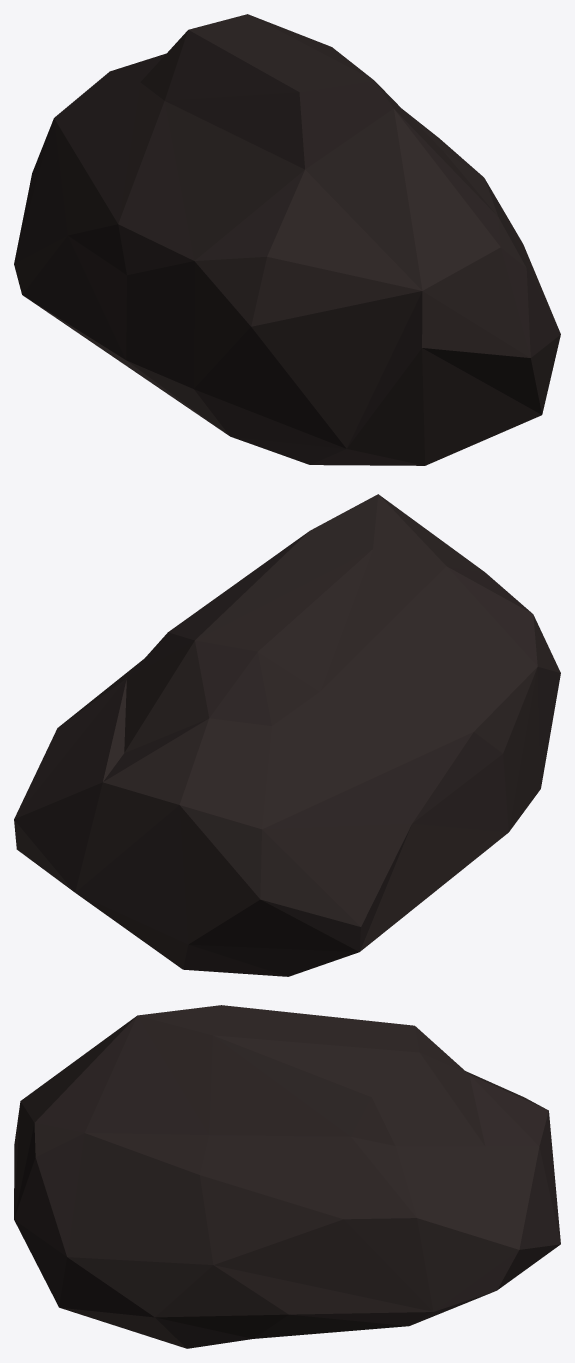
The model's file is Rock 12.FBX.
3 renders of one model, top to bottom at view 1: azimuth 30°, elevation 25°; view 2: azimuth 150°, elevation 25°; view 3: azimuth 270°, elevation 25°, orthographic. The views are drawn at different scales.
Parts seen in each view (by area): view 1: cube; view 2: cube; view 3: cube.
Part boxes in pixels (x1=…): cube: x1=14, y1=14, x2=560, y2=465; cube: x1=14, y1=494, x2=560, y2=976; cube: x1=14, y1=1005, x2=560, y2=1348.
Size of the model in its own units: 30.22 by 25.6 by 44.08.
